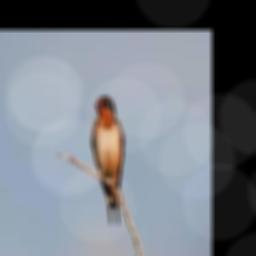Swallow: (92, 96, 124, 224)
